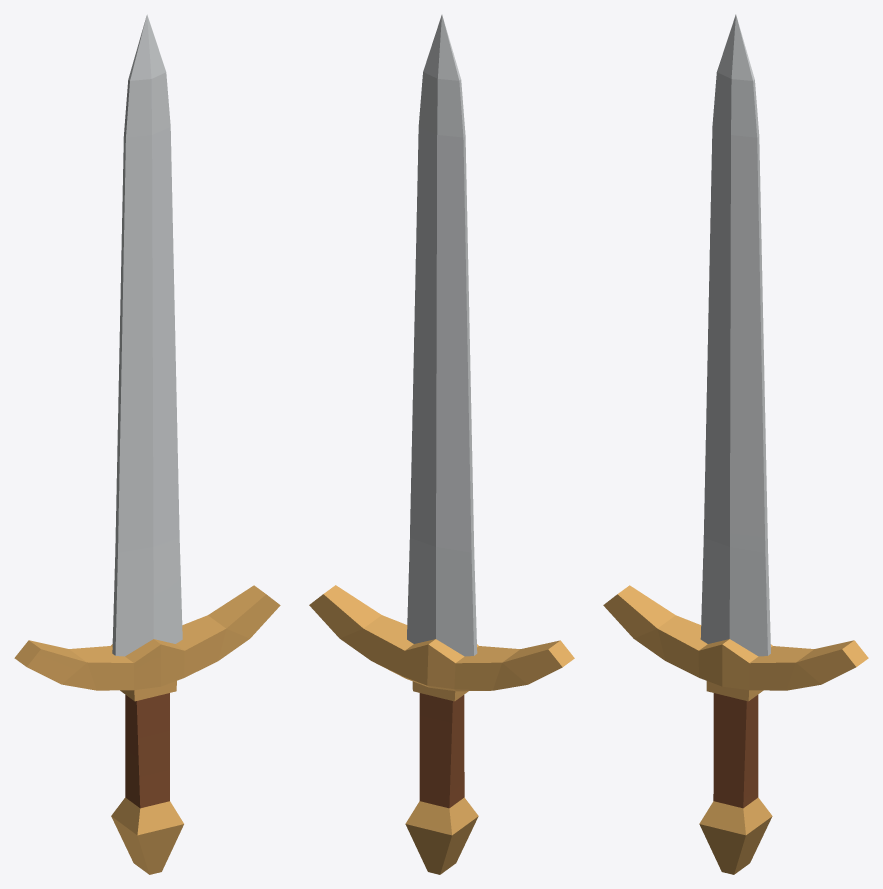
Rendered from Sword_C.fbx.
3 views of the same model, side by side, from view 1: azimuth 30°, elevation 25°; view 2: azimuth 150°, elevation 25°; view 3: azimuth 330°, elevation 25° (orthographic).
Parts seen in each view (by area): view 1: Sword_C; view 2: Sword_C; view 3: Sword_C.
Part boxes in pixels (left/top/right/bottom): Sword_C: left=14, top=14, right=280, bottom=874; Sword_C: left=309, top=14, right=574, bottom=874; Sword_C: left=603, top=14, right=868, bottom=874.
Size of the model in its own units: 27.73 by 89.1 by 5.34.
